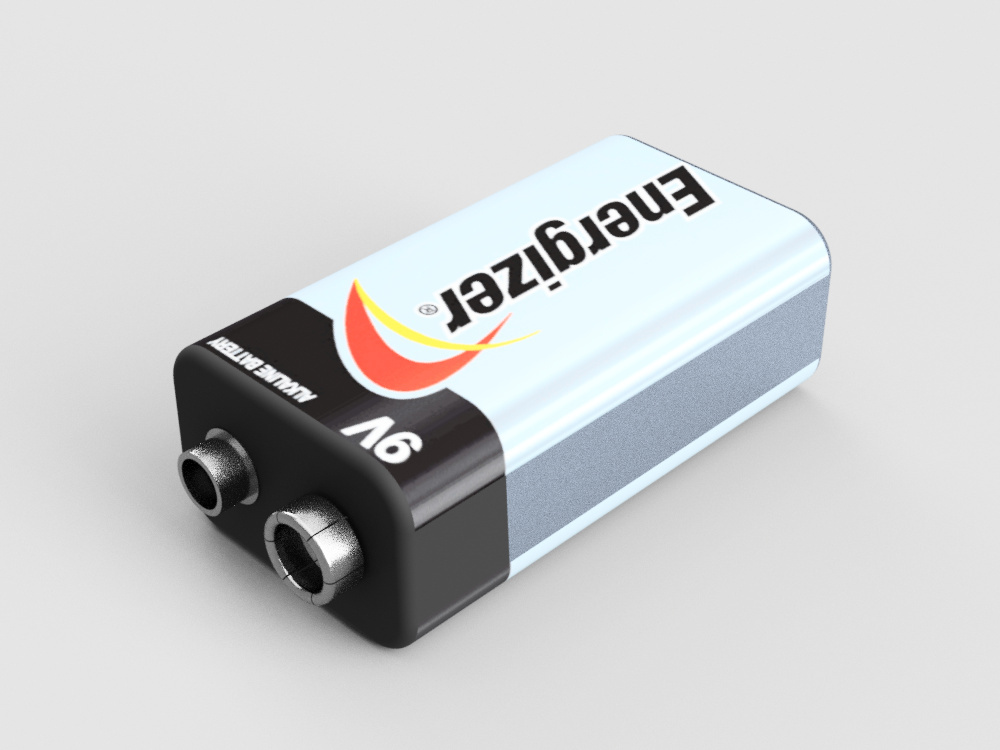9V: (166, 125, 852, 656)
